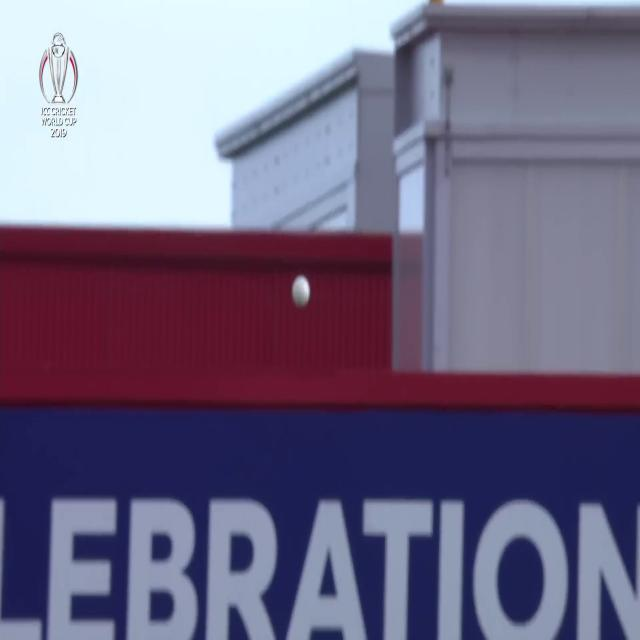ball: (286, 268, 320, 318)
